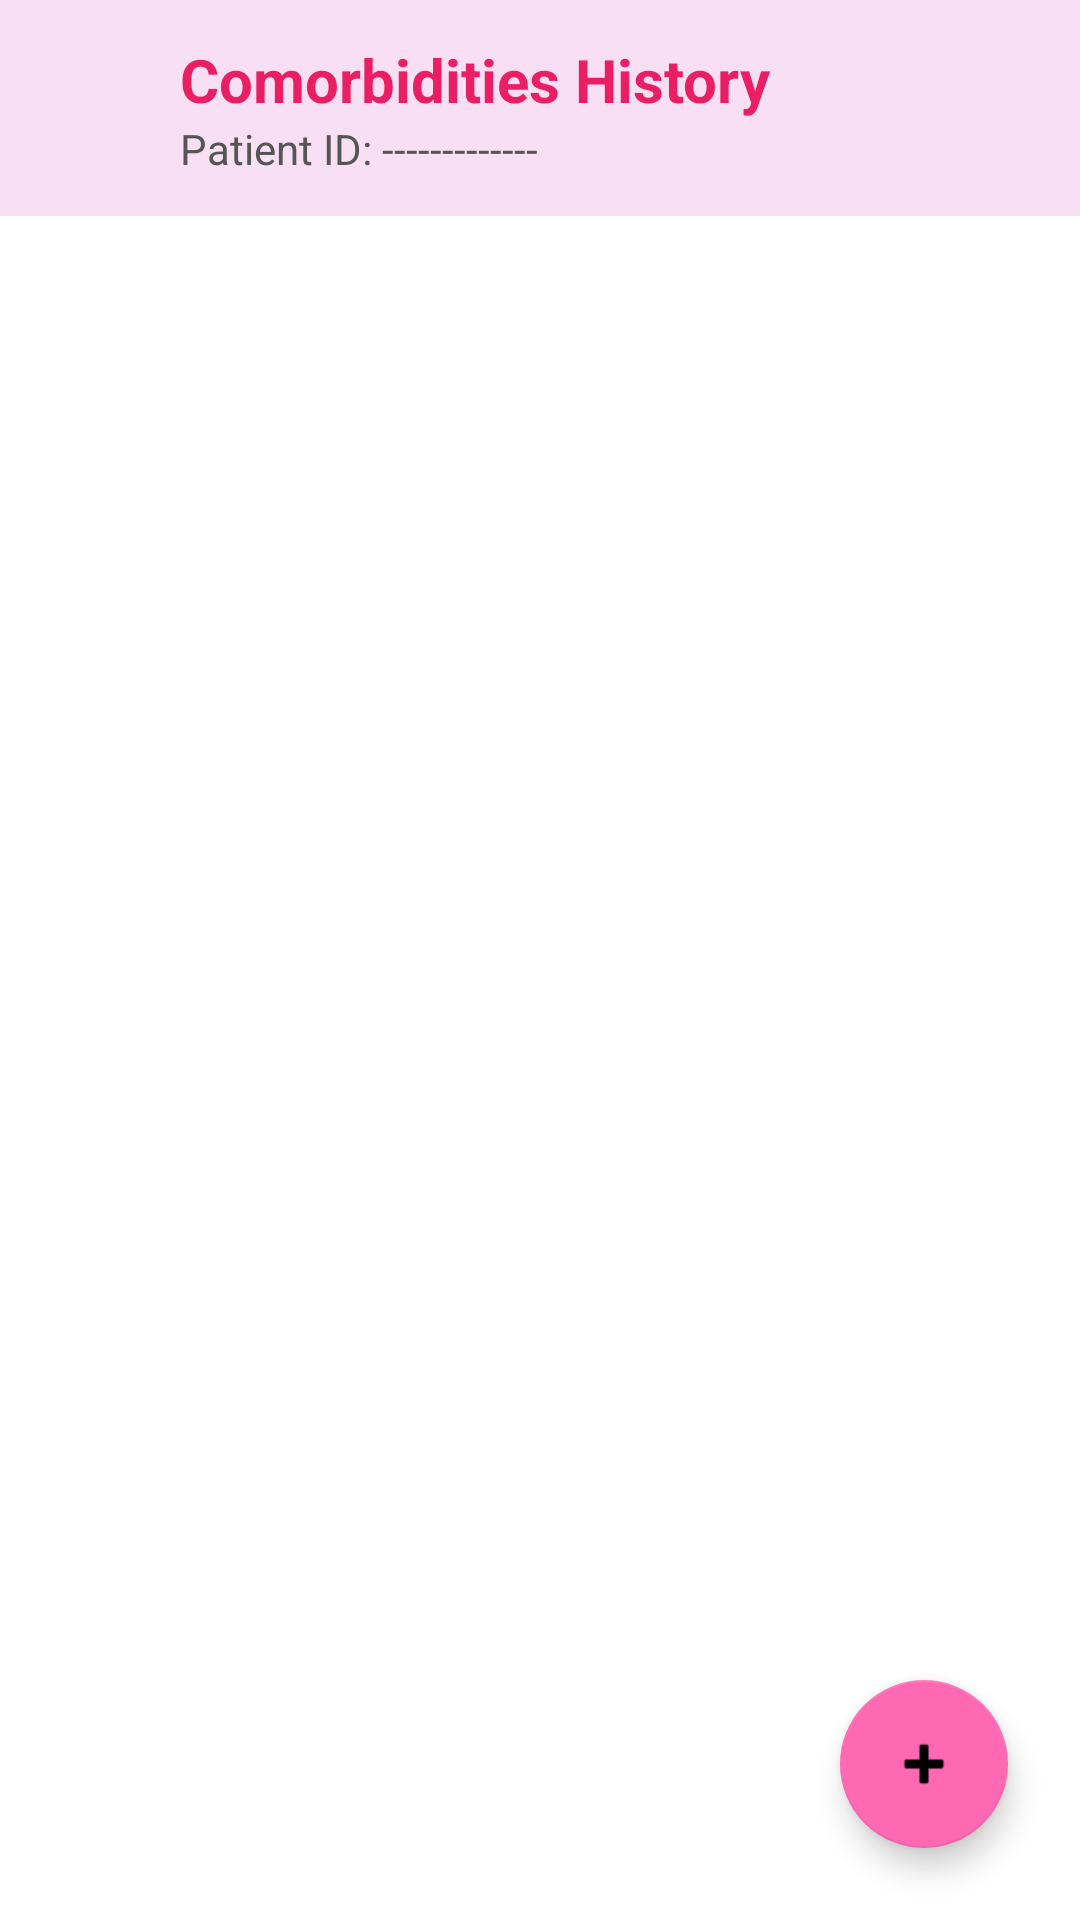

Screen size 1080px x 1920px. Icon name, then its center in pixels as point (x, y):
Add comorbidity: point (924, 1764)
